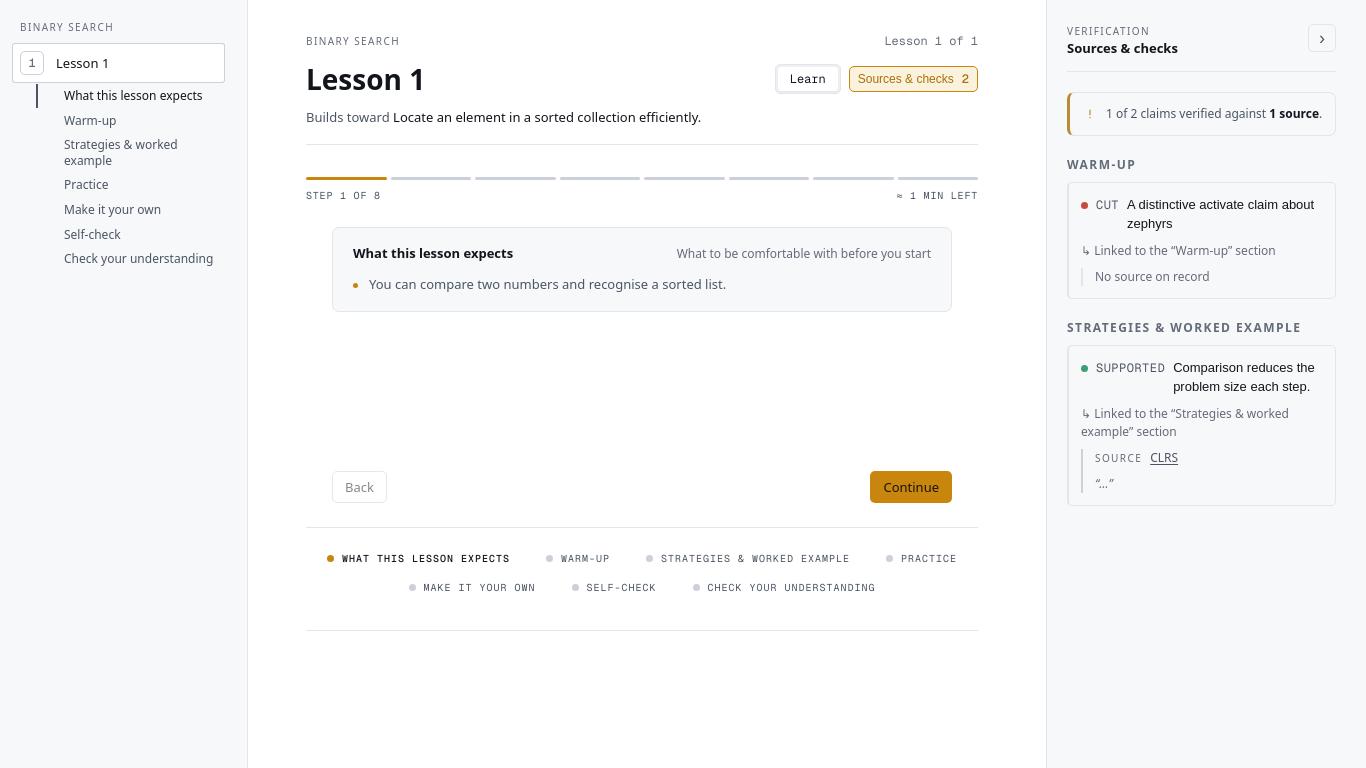
CourseReader — claim → lesson backlink › locates a claim in the activate phase to its “Warm-up” step
Click the button "CUT A distinctive activate claim about zephyrs". click: [1202, 214]
box: [1081,194,1323,234]
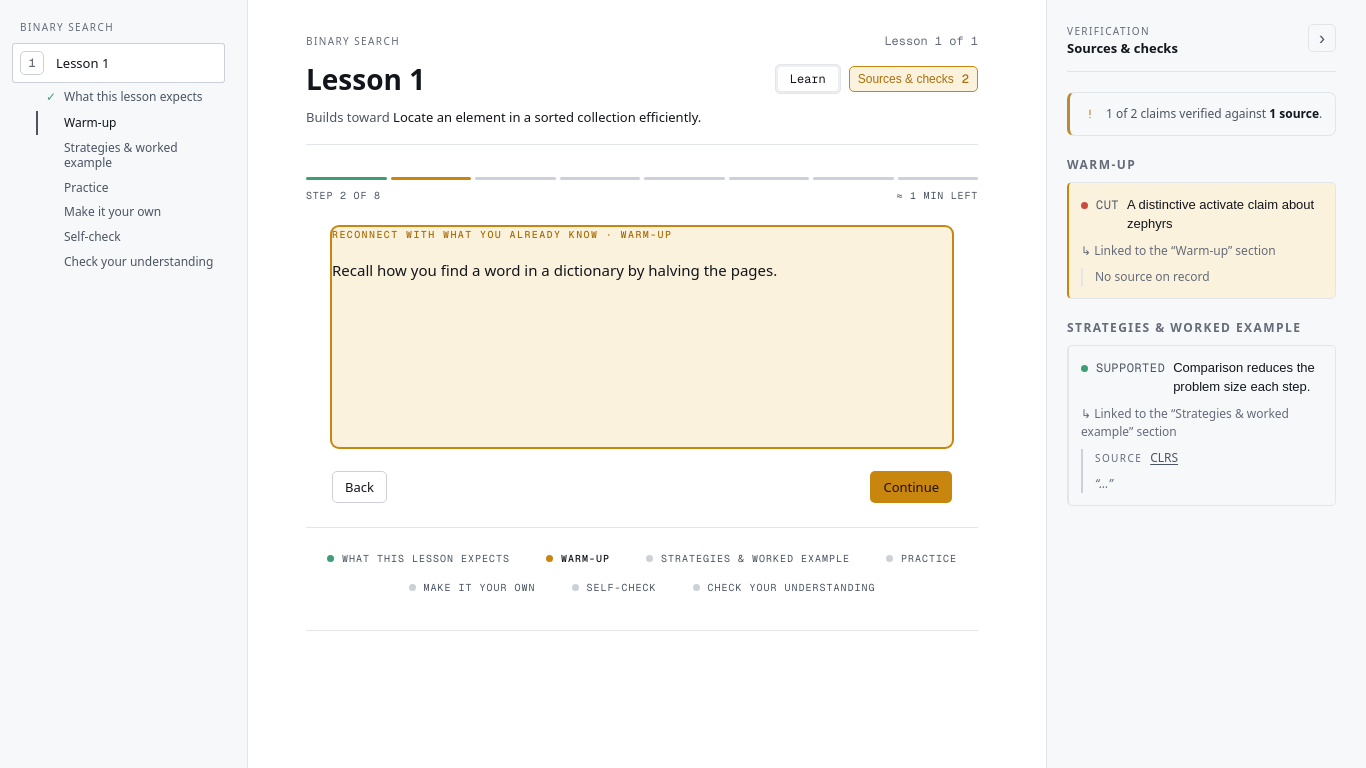
expect the text "Reconnect with what you already know · Warm-up" is shown: met, box [332,228,672,240]
